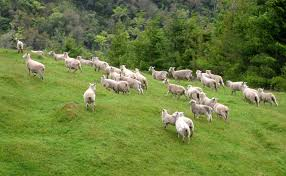sheep: (79, 81, 103, 118), (21, 51, 48, 81), (163, 65, 195, 81), (172, 115, 191, 141), (194, 66, 223, 83), (164, 81, 190, 99), (144, 64, 167, 84), (254, 86, 277, 105), (219, 79, 244, 95), (191, 86, 212, 104), (106, 77, 131, 92), (241, 85, 258, 107), (158, 106, 174, 127), (122, 75, 144, 90), (179, 110, 194, 132), (132, 69, 150, 86), (89, 56, 107, 73), (191, 100, 211, 115), (63, 53, 79, 70), (214, 104, 229, 122), (118, 64, 135, 79), (195, 75, 216, 87), (106, 62, 118, 81), (48, 50, 67, 62), (11, 37, 27, 50), (78, 54, 89, 66)
